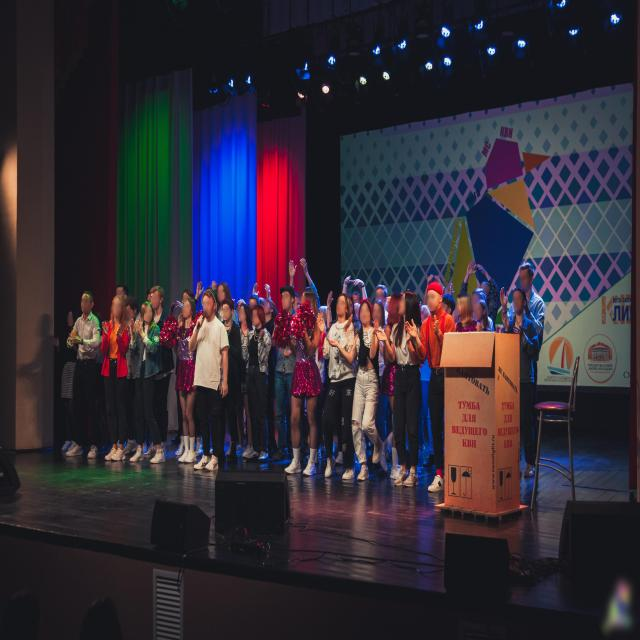Person: (422, 284, 454, 494), (64, 290, 102, 460), (323, 293, 357, 477), (288, 285, 319, 479), (508, 289, 539, 483), (271, 279, 303, 460), (238, 303, 272, 462), (352, 298, 381, 482), (111, 280, 141, 456), (505, 260, 547, 382), (130, 305, 161, 464), (394, 290, 418, 493), (104, 293, 129, 470), (198, 288, 222, 471), (171, 298, 196, 472), (217, 301, 241, 467), (58, 312, 82, 451), (125, 297, 144, 464), (232, 305, 250, 457), (453, 290, 472, 331), (473, 298, 490, 332), (217, 275, 230, 312), (180, 284, 198, 305), (374, 279, 391, 301), (113, 278, 129, 301), (371, 300, 386, 324), (348, 288, 362, 304)
